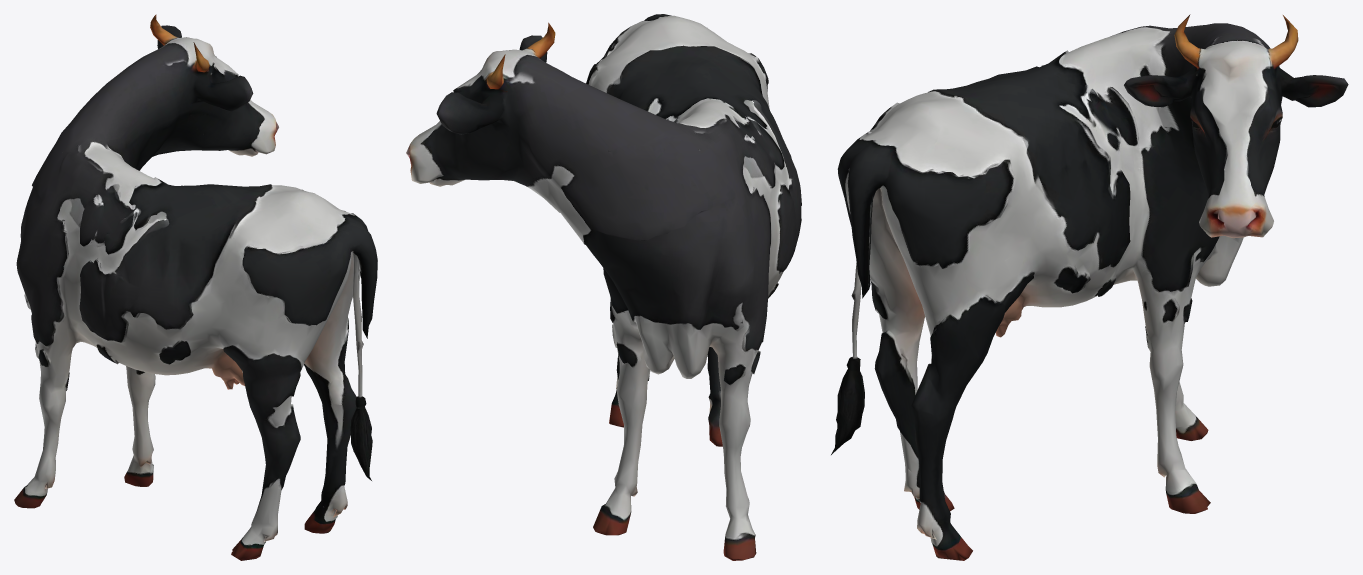
File: cow.glb
3 views of the same model, side by side, from view 1: azimuth 30°, elevation 25°; view 2: azimuth 150°, elevation 25°; view 3: azimuth 270°, elevation 25° (orthographic). The views are drawn at different scales.
Parts seen in each view (by area): view 1: tripo_node_7afcf3b9-e3ef-46fc-8986-9e543224309a; view 2: tripo_node_7afcf3b9-e3ef-46fc-8986-9e543224309a; view 3: tripo_node_7afcf3b9-e3ef-46fc-8986-9e543224309a.
Part boxes in pixels (bbox=[...]): tripo_node_7afcf3b9-e3ef-46fc-8986-9e543224309a: bbox=[14, 14, 377, 560]; tripo_node_7afcf3b9-e3ef-46fc-8986-9e543224309a: bbox=[406, 14, 801, 560]; tripo_node_7afcf3b9-e3ef-46fc-8986-9e543224309a: bbox=[831, 14, 1348, 560].
Bounding box in the file's own units: 1.02 × 1.5 × 1.34.
Materials: 1 (1 with a texture image).
